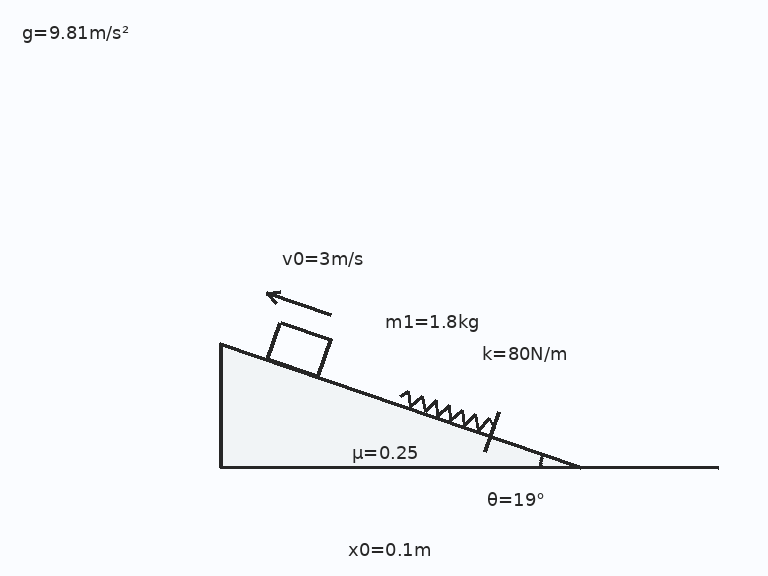block: (264, 320, 332, 378)
ramp: (219, 341, 582, 469)
spring: (398, 389, 495, 432)
